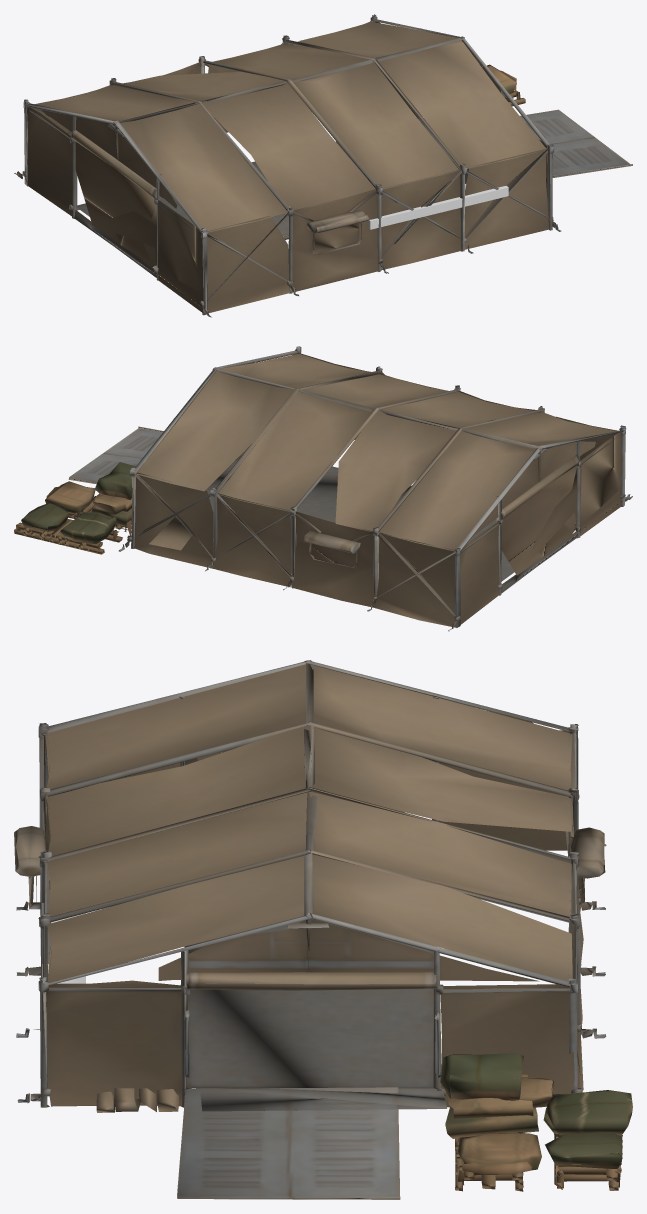
File: us-supply-center.glb
3 renders of one model, top to bottom at view 1: azimuth 30°, elevation 25°; view 2: azimuth 150°, elevation 25°; view 3: azimuth 270°, elevation 25°, orthographic. The views are drawn at different scales.
Parts seen in each view (by area): view 1: us-supply-center; view 2: us-supply-center; view 3: us-supply-center.
Boxes of the visible parts, left/top/right/bottom form: us-supply-center: left=14, top=14, right=632, bottom=317; us-supply-center: left=14, top=346, right=632, bottom=631; us-supply-center: left=14, top=660, right=632, bottom=1199.
Bounding box in the file's own units: 3.44 × 0.9 × 2.58.
2 materials, 1 textured.
